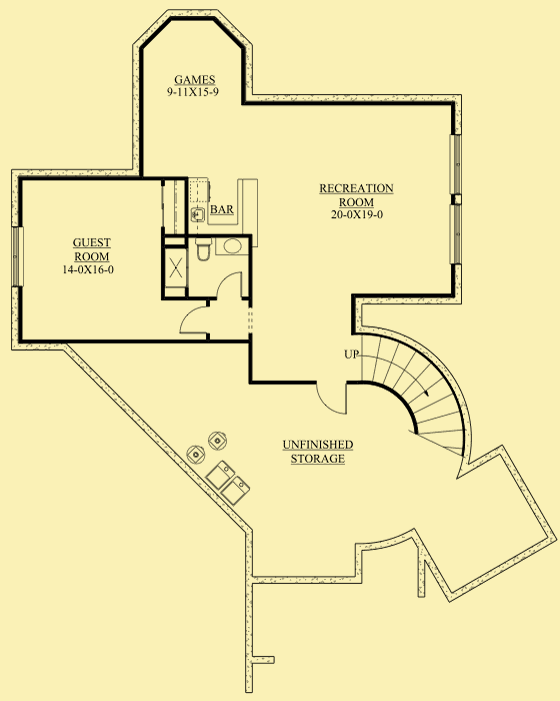door: (313, 378, 351, 415), (177, 304, 210, 335), (215, 270, 244, 298)
large_sink: (191, 236, 213, 263)
small_sink: (213, 239, 252, 256)
stairs: (343, 328, 467, 463)
windows: (450, 133, 463, 266), (8, 223, 25, 289)
